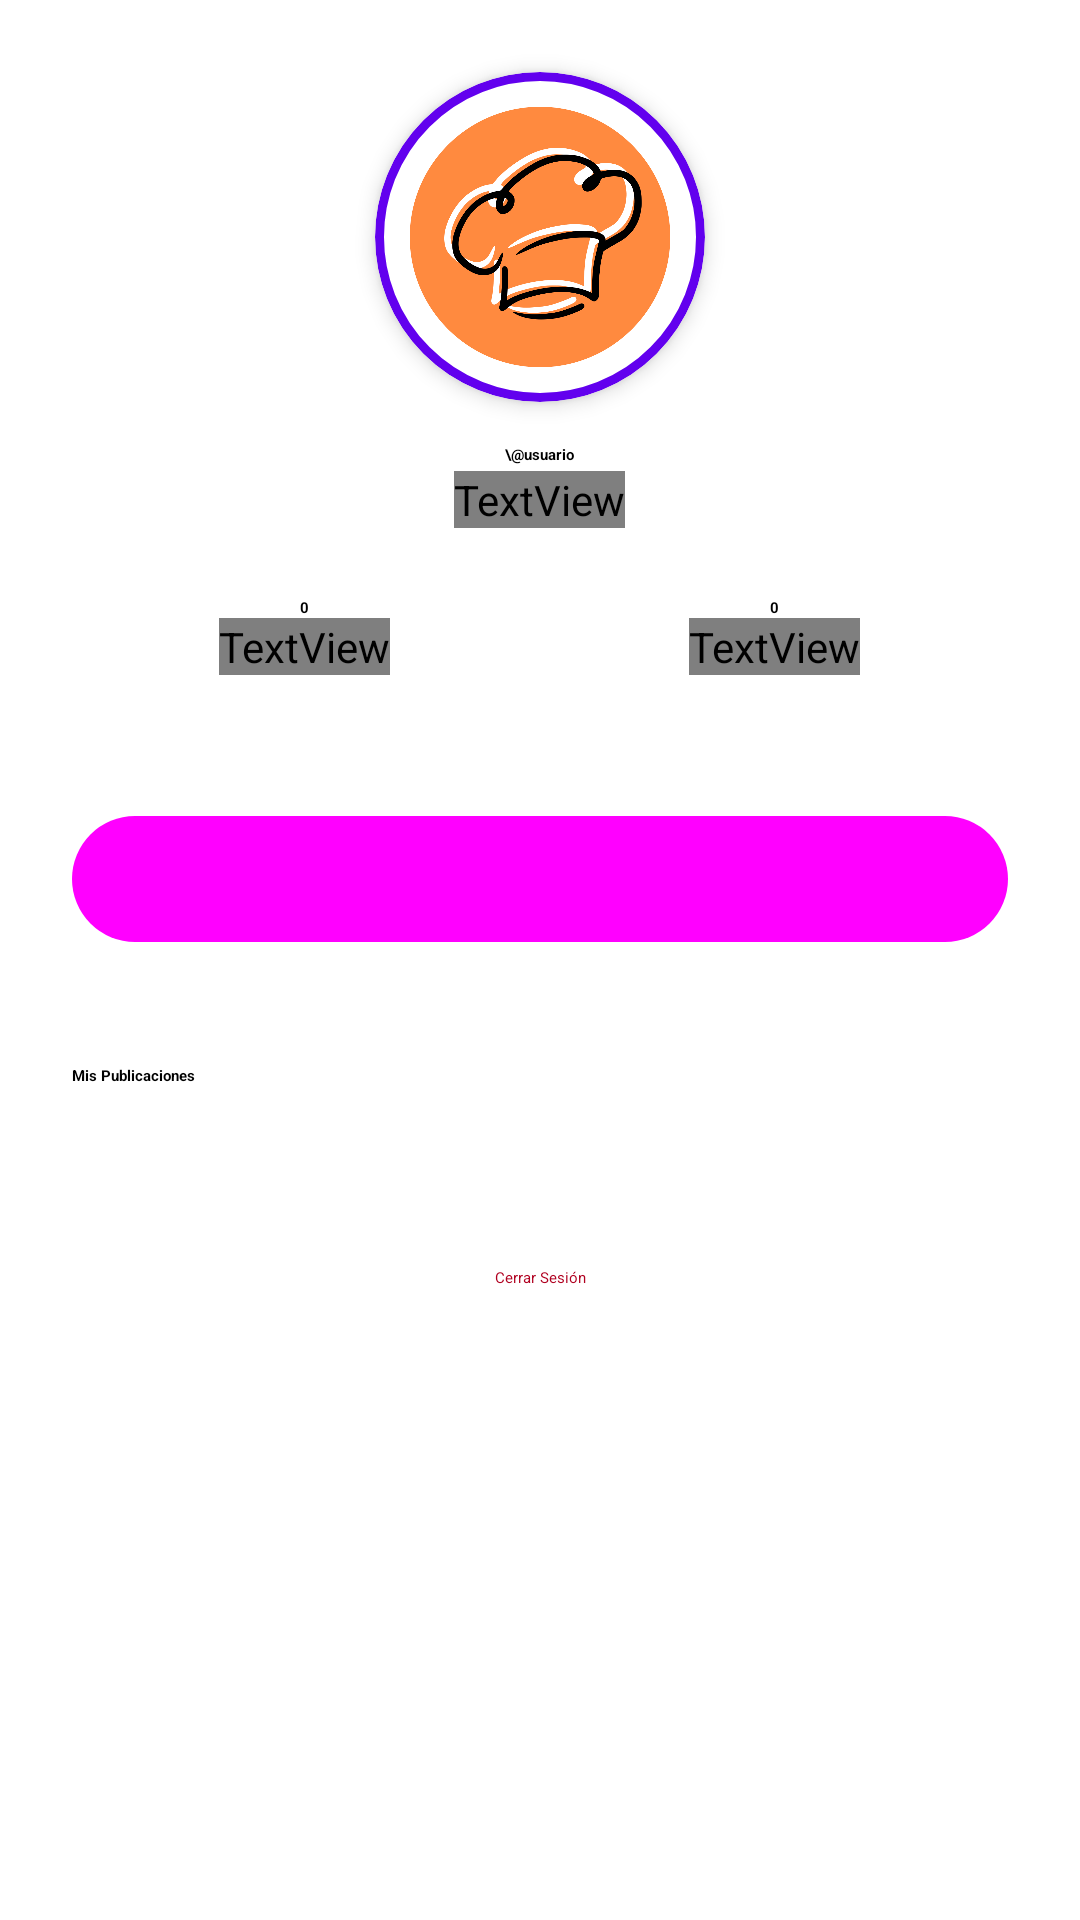

Screen size 1080 x 1920. Icon name, then its box in pixels as (x1, y1, x2, y2):
Avatar de perfil: (375, 72, 705, 402)
